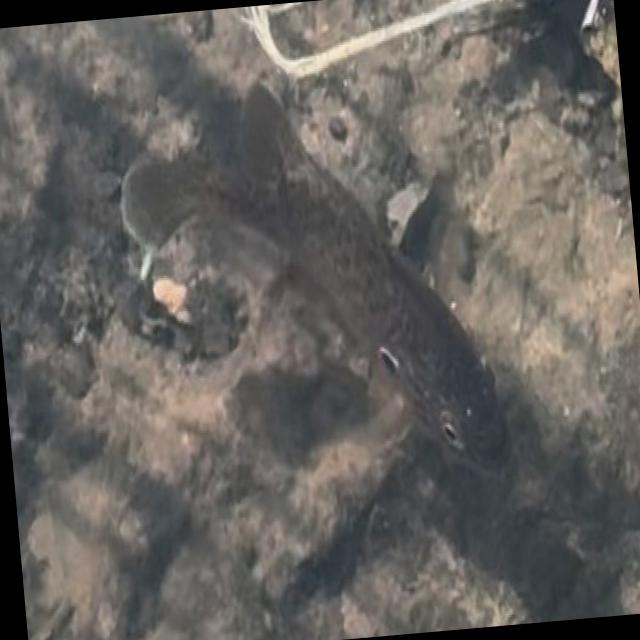Gunes Levregi: (101, 64, 585, 532)
